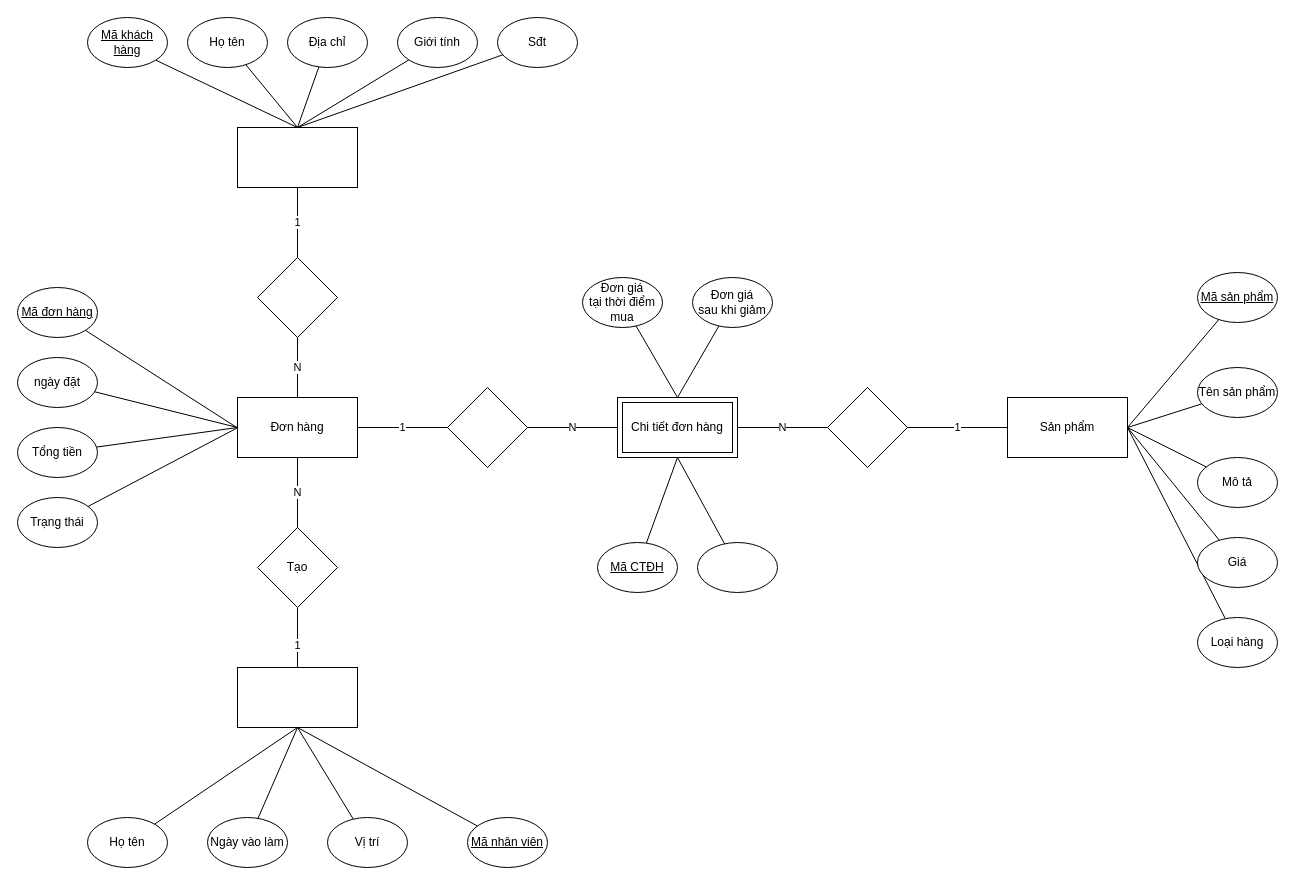
The diagram is 1295 pixels wide and 885 high, and some of its shapes have lost their labels. The shapes that lost their labels are listed below. From the top down, each one's centre as x and y in pixels, then its label:
At pixel 297 157: "Khách hàng".
At pixel 297 297: "Thanh toán".
At pixel 487 427: "Có".
At pixel 867 427: "thuộc".
At pixel 737 567: "Số lượng".
At pixel 297 697: "Nhân viên".
